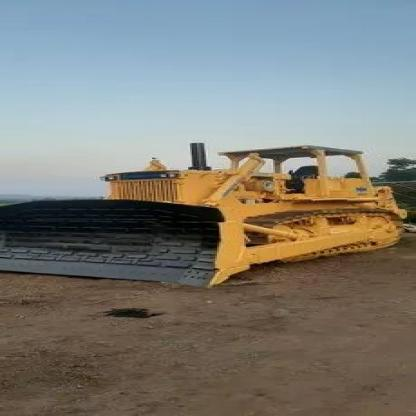bull_dozer/loader/grader: (13, 135, 414, 290)
